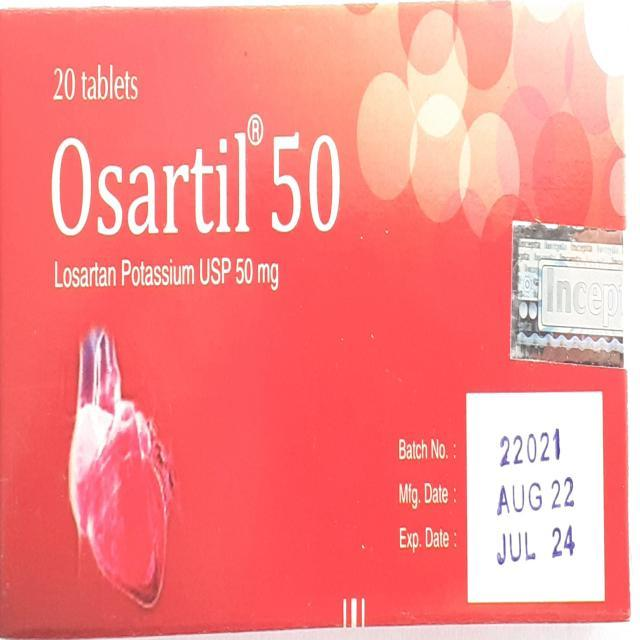drug-name: (45, 114, 345, 237)
